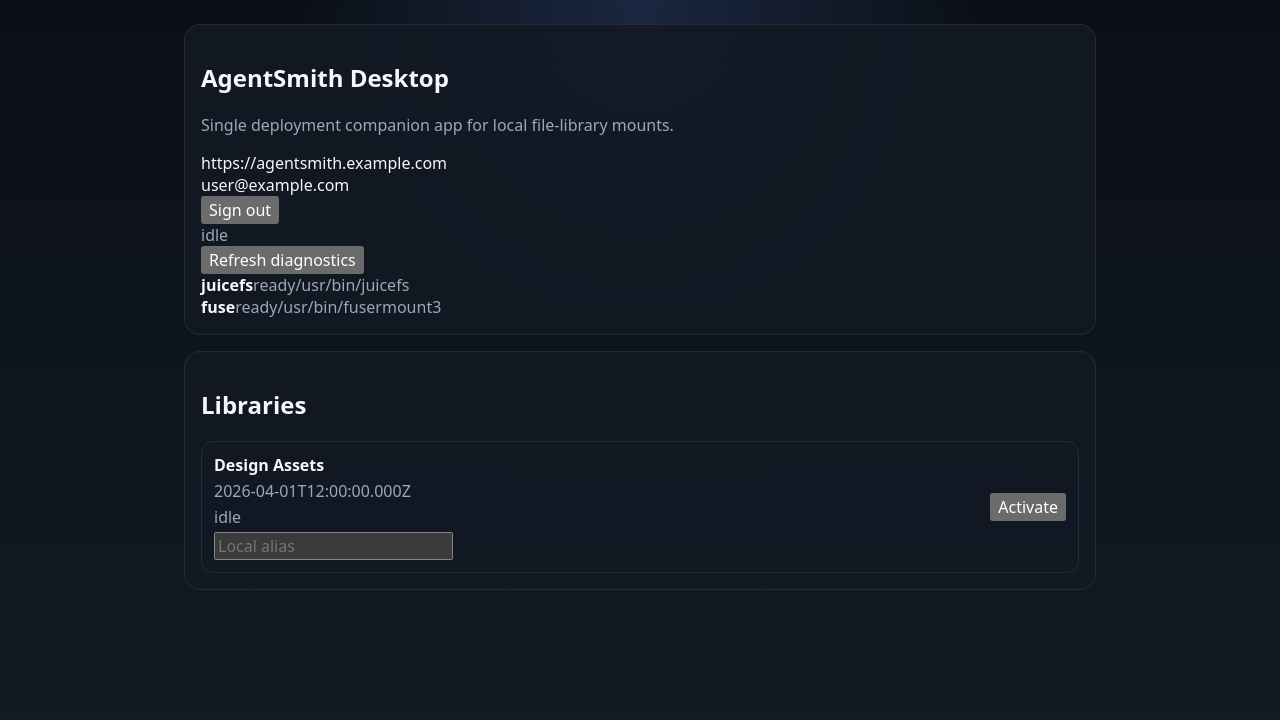
App › shows a failed mount state when desktop mount access exchange fails
The image size is (1280, 720).
Check: the element with test id "desktop__library--lib_2" is shown, box [201,441,1079,573]
What coordinates should you click on to do the following:
click the button with test id "desktop__library-toggle--lib_2"
I would click on:
 (1028, 507)
Its box is [990,493,1066,521].
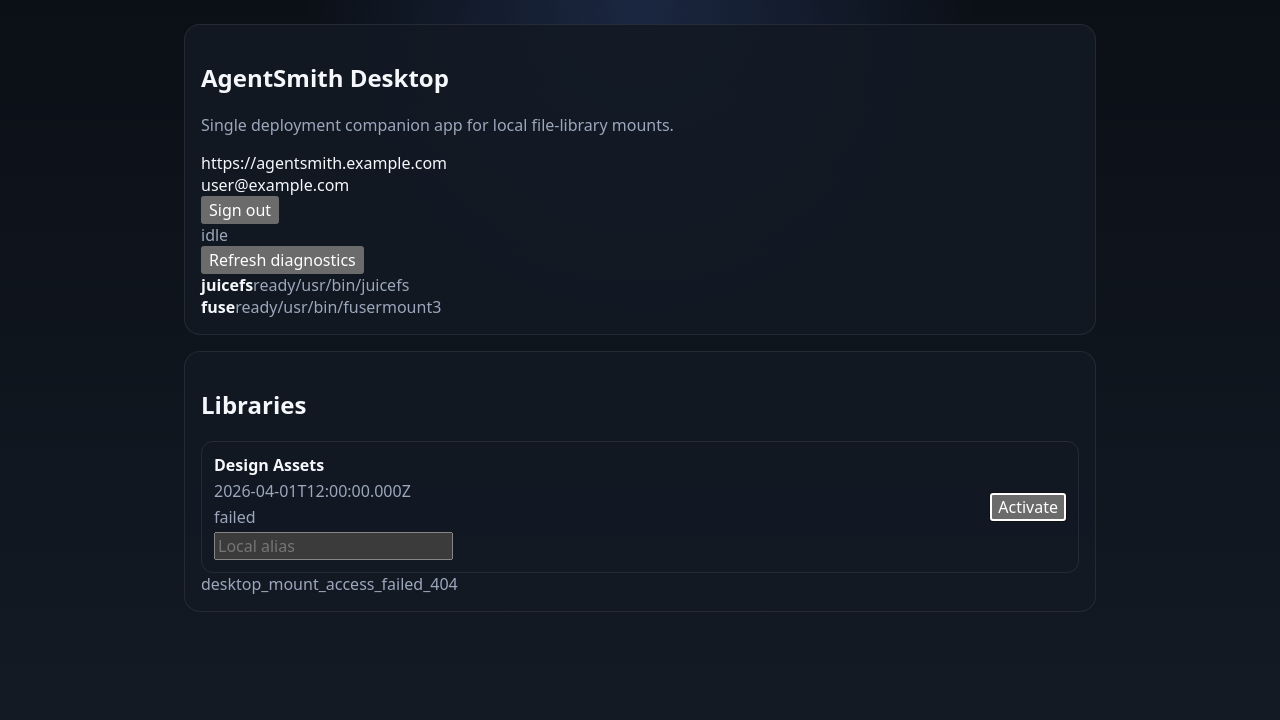
Check: the text with test id "desktop__library-mount-state--lib_2" reads "failed", box [214,506,256,528]
Check: the text with test id "desktop__diagnostics" reads "desktop_mount_access_failed_404", box [201,573,458,595]
